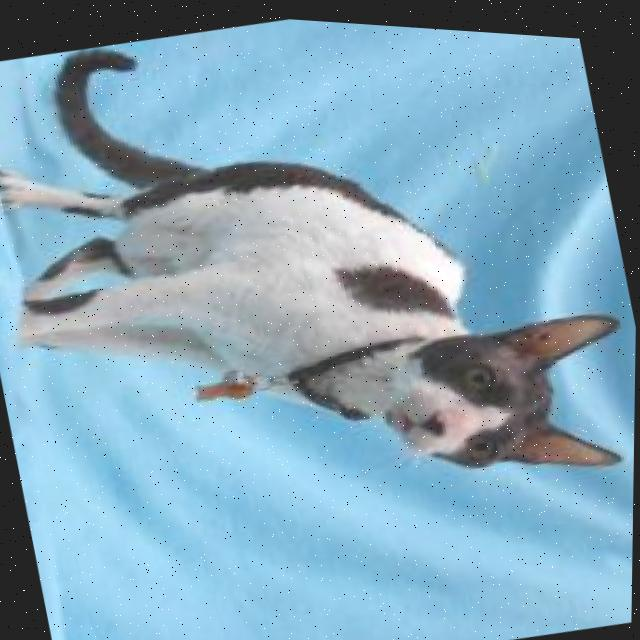Cornish Rex: (0, 0, 640, 580)
